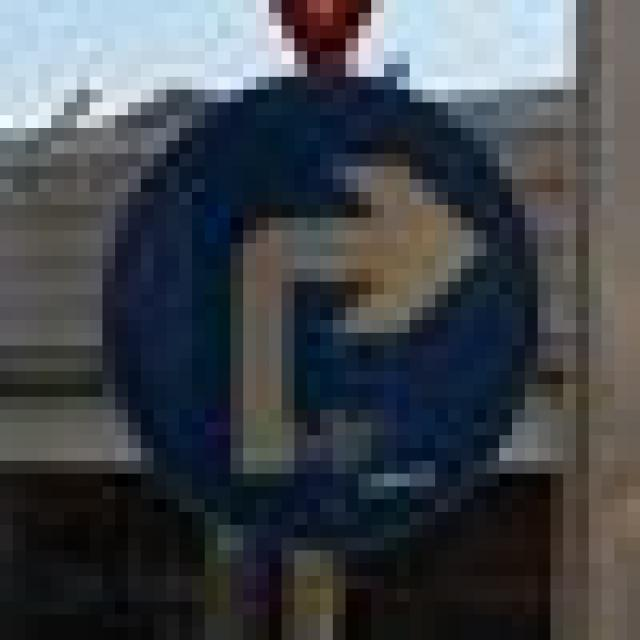TURN_RIGHT: (77, 64, 525, 550)
